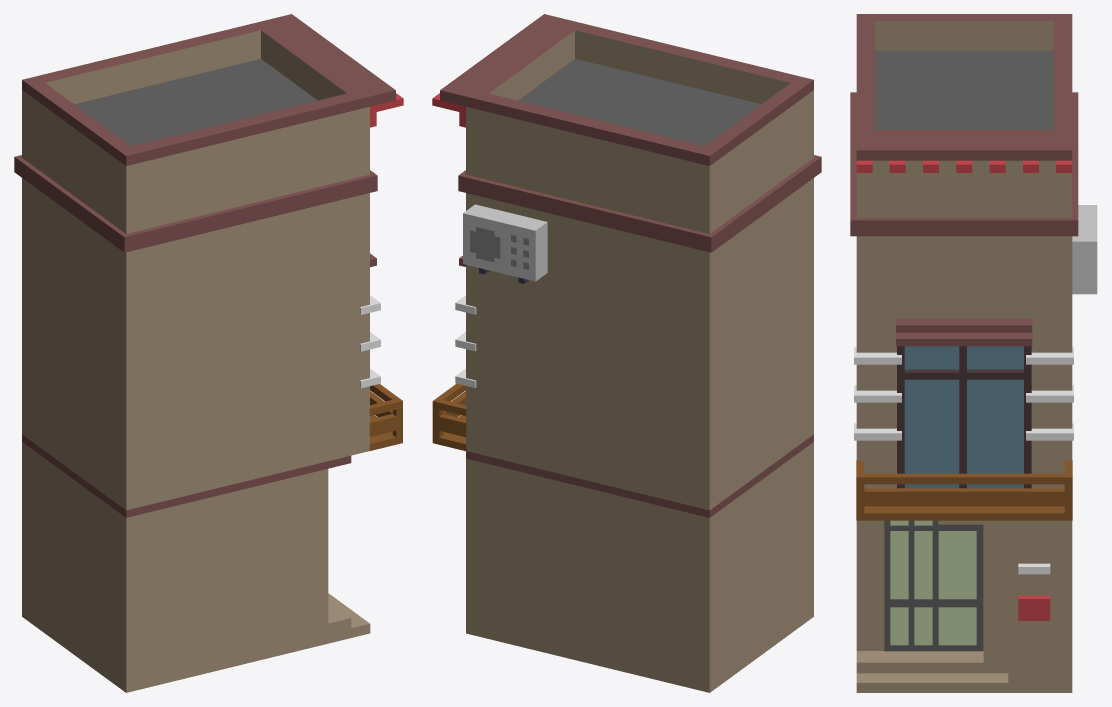
File: Building_4.FBX
3 views of the same model, side by side, from view 1: azimuth 30°, elevation 25°; view 2: azimuth 150°, elevation 25°; view 3: azimuth 270°, elevation 25° (orthographic). The views are drawn at different scales.
Visible parts, largest first — view 1: Building_4; view 2: Building_4; view 3: Building_4.
Boxes of the visible parts, left/top/right/bottom form: Building_4: left=14, top=14, right=403, bottom=692; Building_4: left=432, top=14, right=821, bottom=692; Building_4: left=850, top=14, right=1097, bottom=692.
Size of the model in its own units: 84.16 by 153 by 61.71.
Materials: 1 (1 with a texture image).
